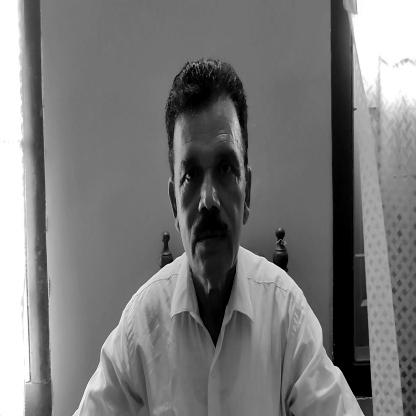Normal: (163, 64, 259, 285)
